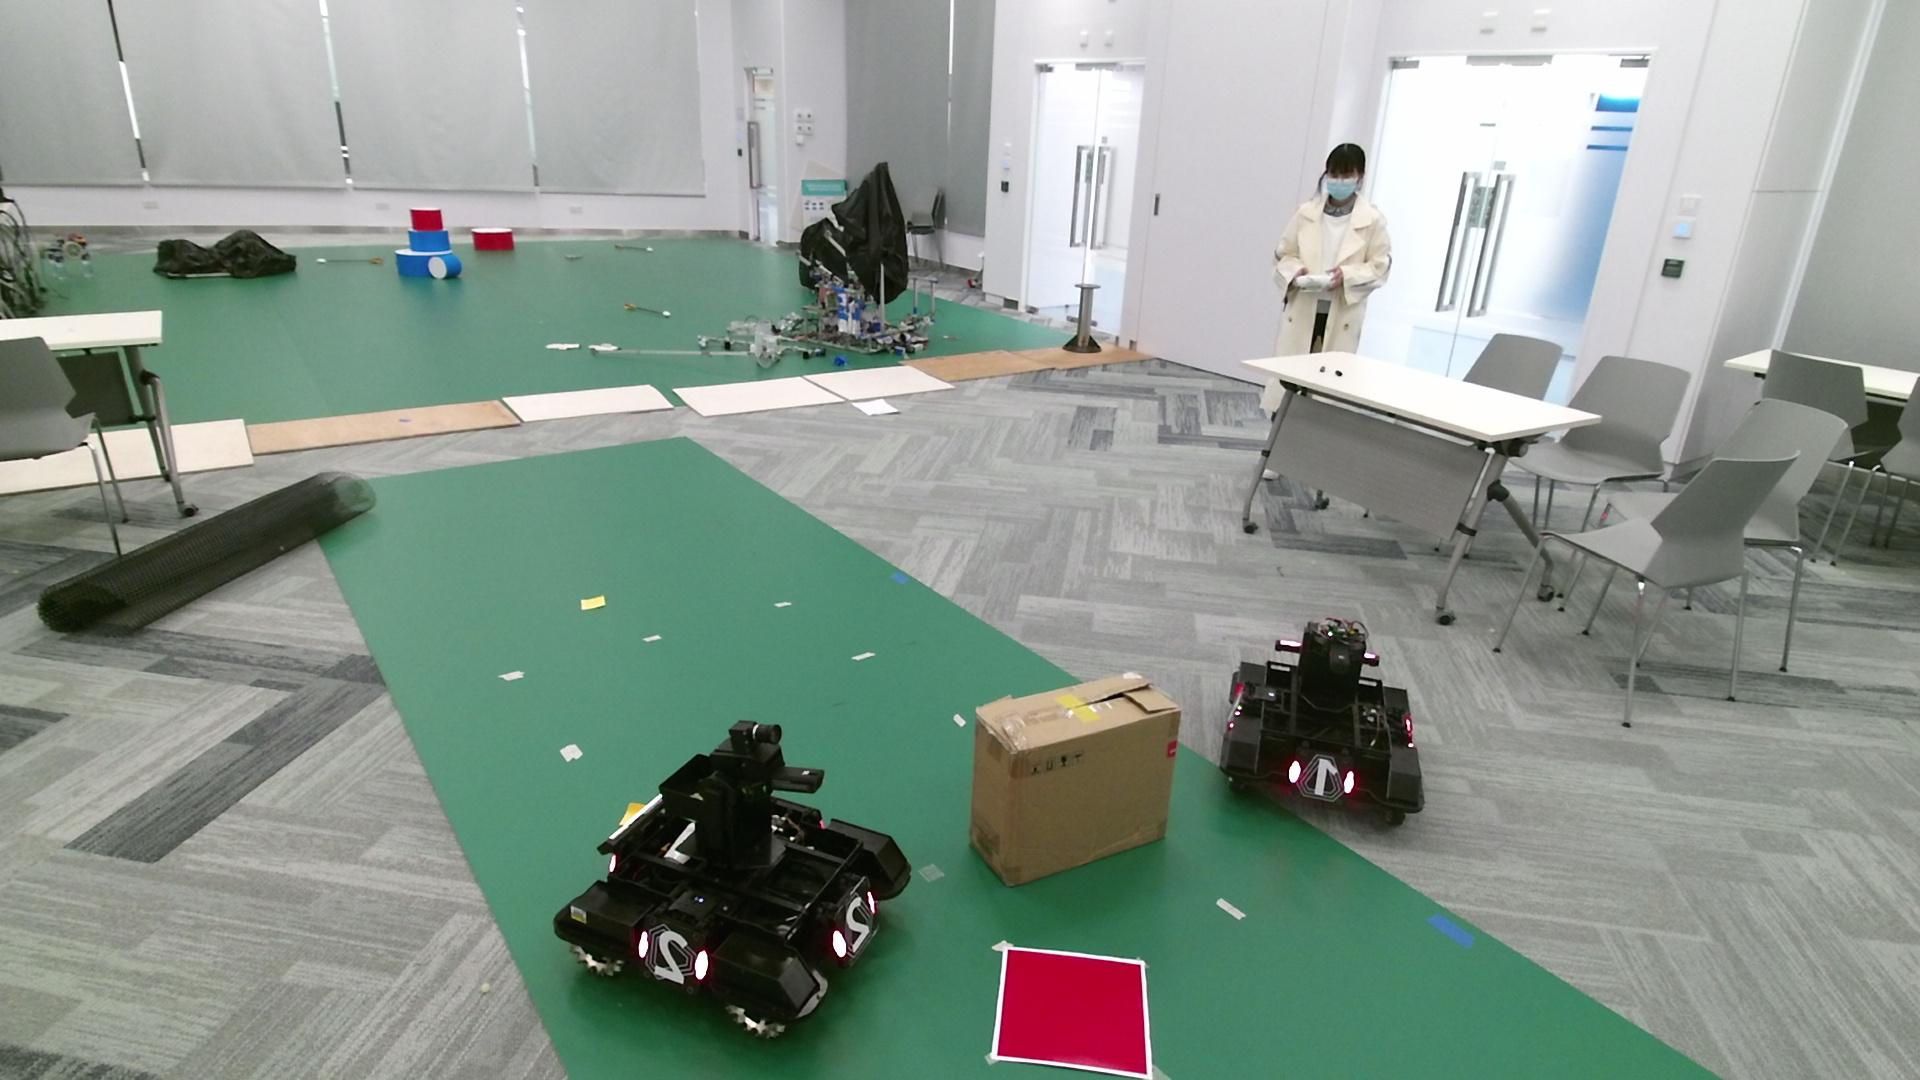robot: (553, 716, 914, 1043), (1218, 615, 1425, 828)
